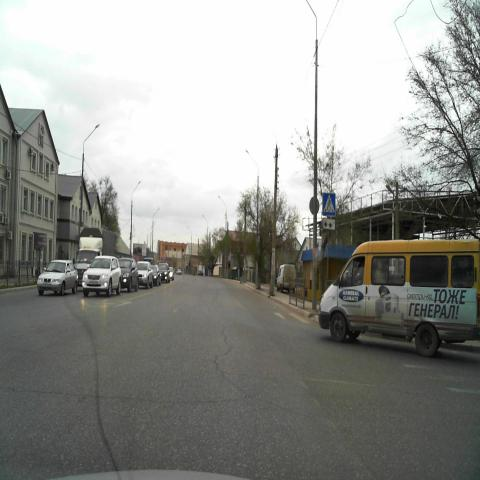8_15: (322, 218, 336, 230)
